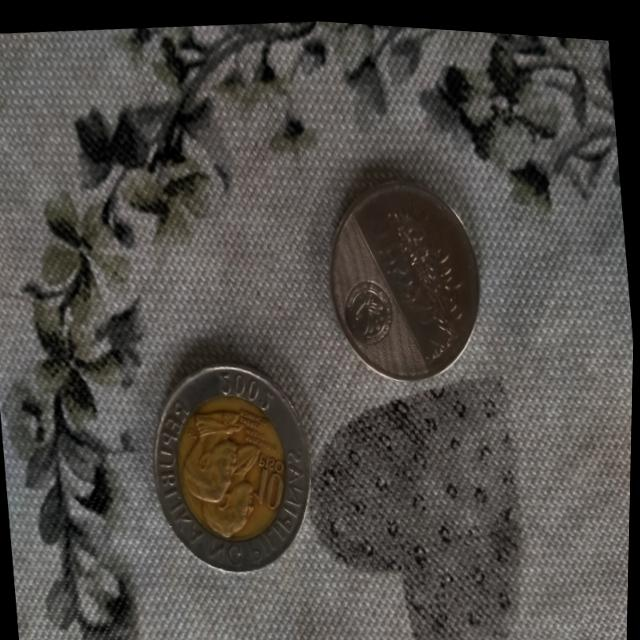10_Old_Front: (239, 426, 298, 520)
